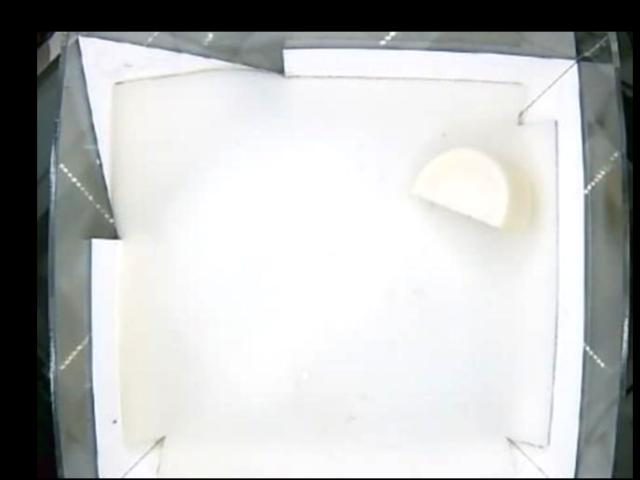Mooli: (409, 147, 534, 230)
